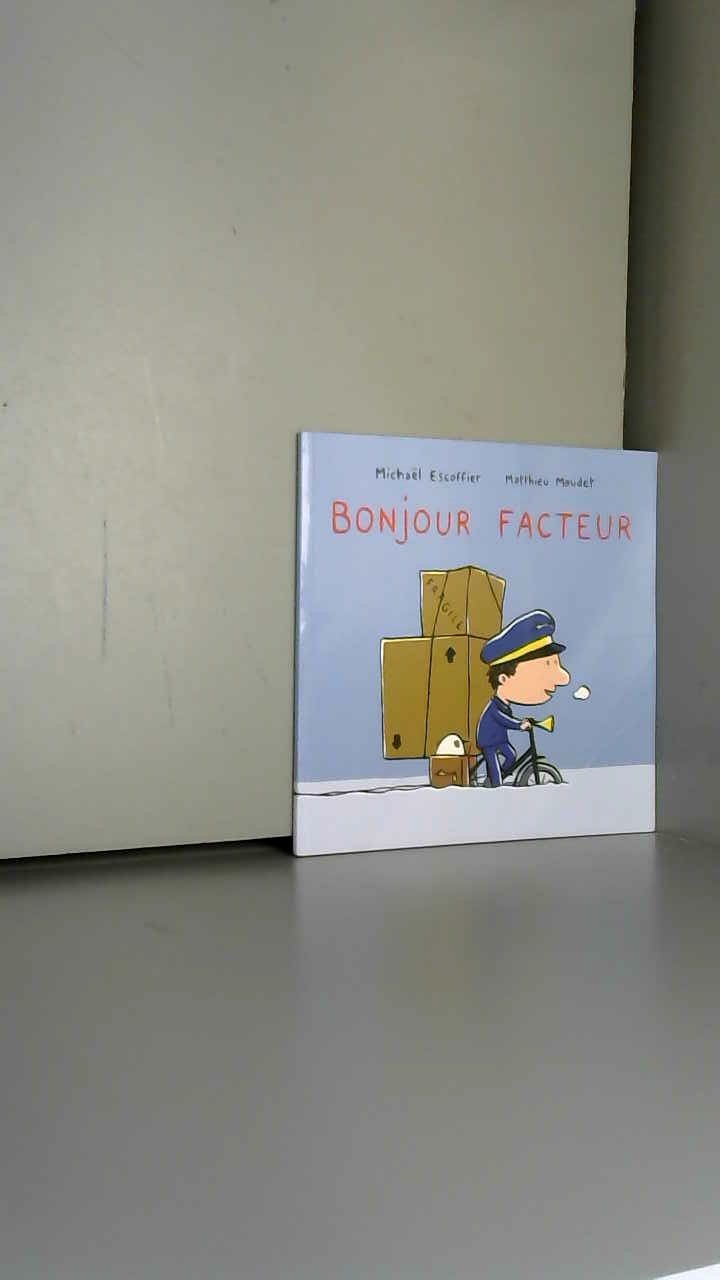book: (270, 410, 719, 923)
